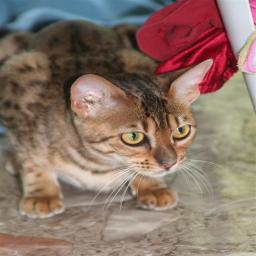catnose: (157, 156, 180, 171)
